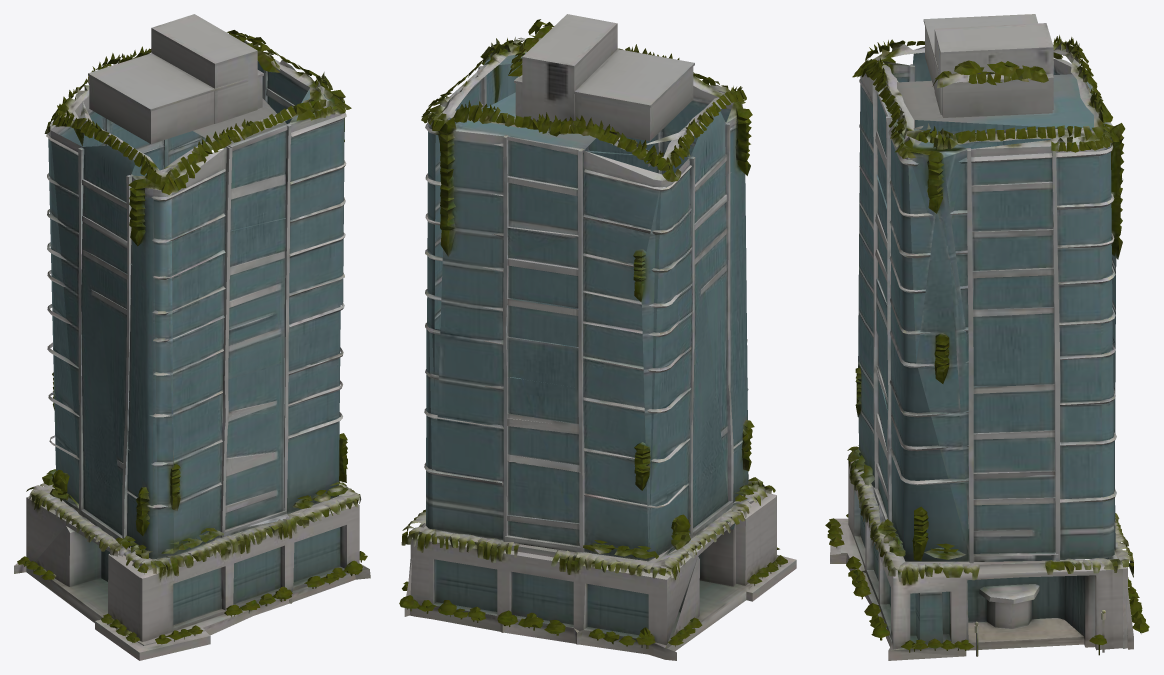
File: seoul-silver-glass-office.glb
3 views of the same model, side by side, from view 1: azimuth 30°, elevation 25°; view 2: azimuth 150°, elevation 25°; view 3: azimuth 270°, elevation 25° (orthographic). The views are drawn at different scales.
Parts seen in each view (by area): view 1: tripo_node_511a3180-b667-466e-8ffc-e14aadc38d77; view 2: tripo_node_511a3180-b667-466e-8ffc-e14aadc38d77; view 3: tripo_node_511a3180-b667-466e-8ffc-e14aadc38d77.
Part boxes in pixels (left/top/right/bottom): tripo_node_511a3180-b667-466e-8ffc-e14aadc38d77: left=14, top=14, right=370, bottom=660; tripo_node_511a3180-b667-466e-8ffc-e14aadc38d77: left=399, top=14, right=796, bottom=660; tripo_node_511a3180-b667-466e-8ffc-e14aadc38d77: left=825, top=14, right=1149, bottom=660.
Size of the model in its own units: 0.5332 by 0.998 by 0.5215.
1 material, 1 textured.
